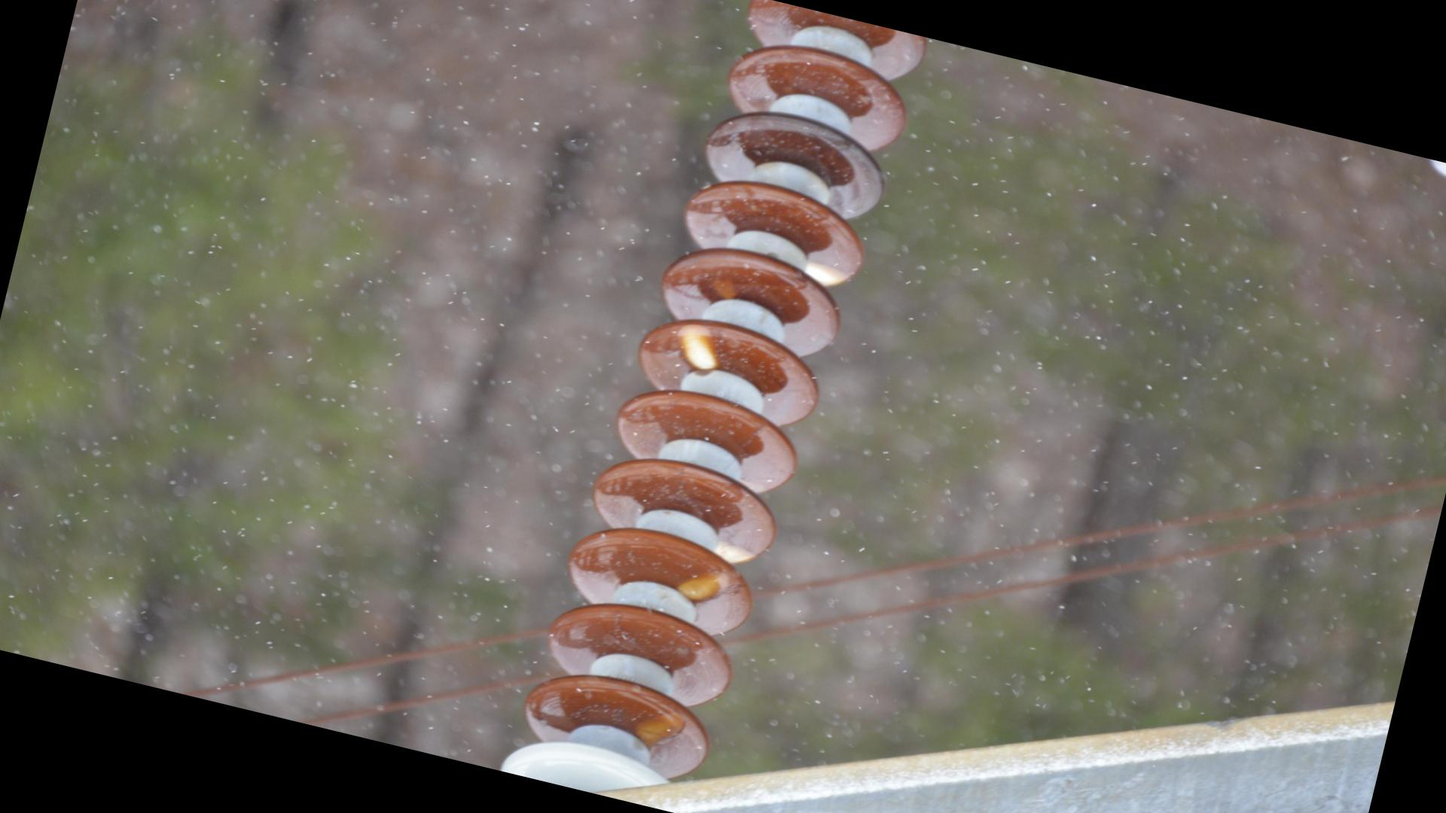damper: (1340, 65, 1446, 218)
